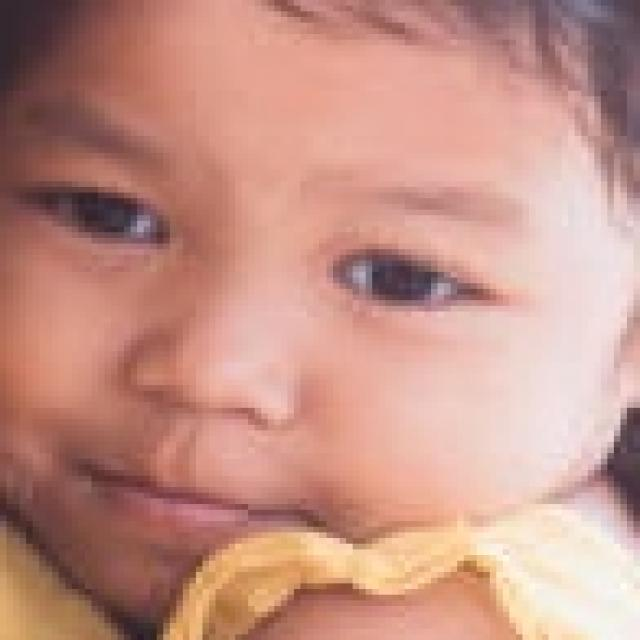Anxiety: (7, 0, 640, 623)
